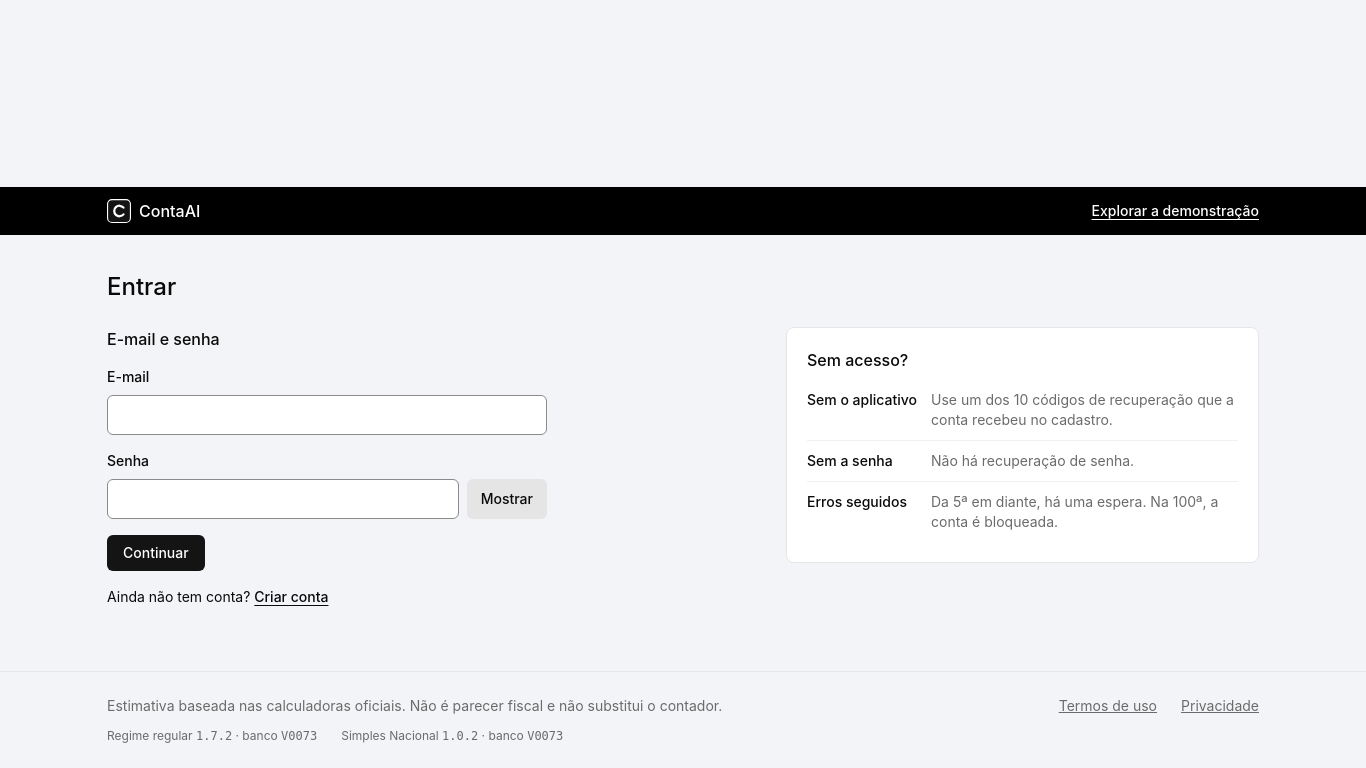
Test: Entrar, passo 1: e-mail e senha › conta bloqueada: a frase da API, sem contagem de 60 min (só o administrador desbloqueia)
(page scrolled)
Type "pessoa@exemplo.test" into the field labelled "E-mail" at (327, 415), box x1=107 y1=395 x2=547 y2=435
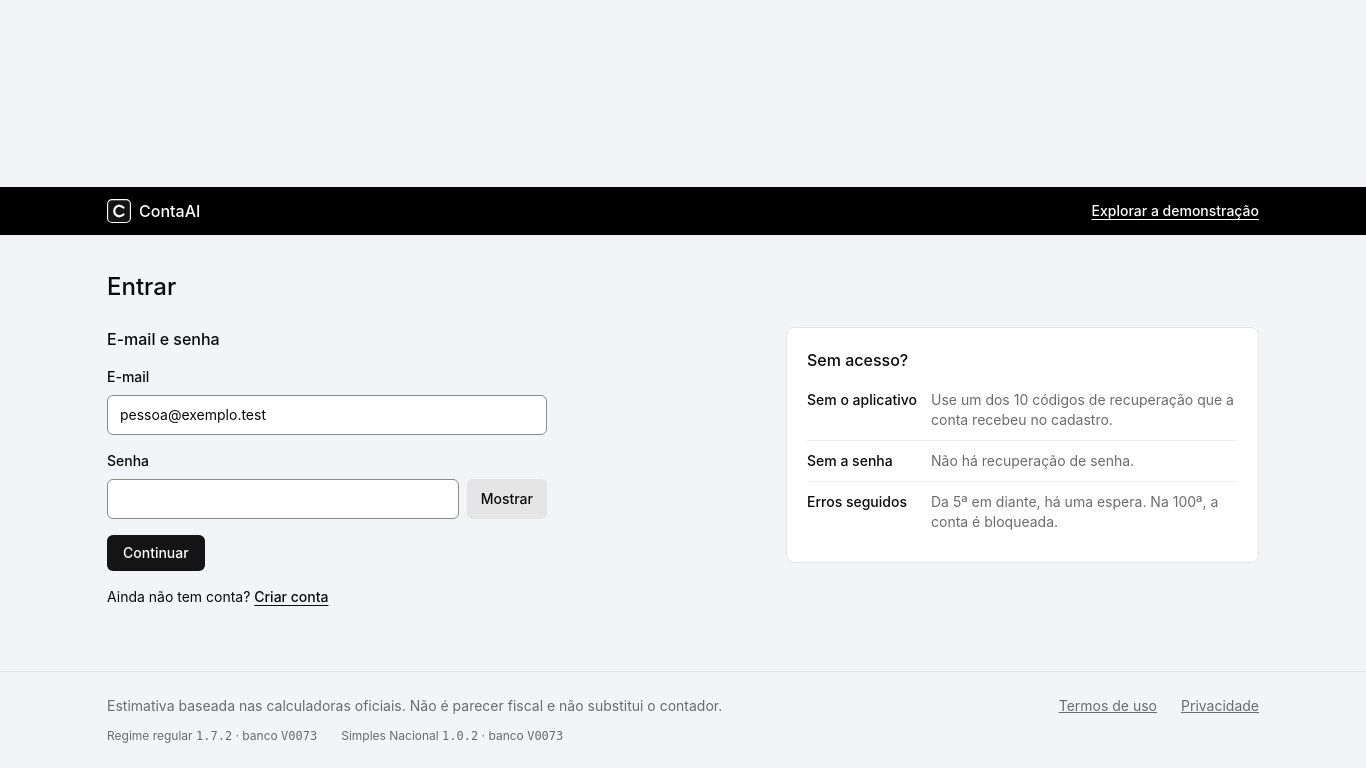
Type "a senha da pessoa" into the password field labelled "Senha" at (283, 499), box x1=107 y1=479 x2=459 y2=519
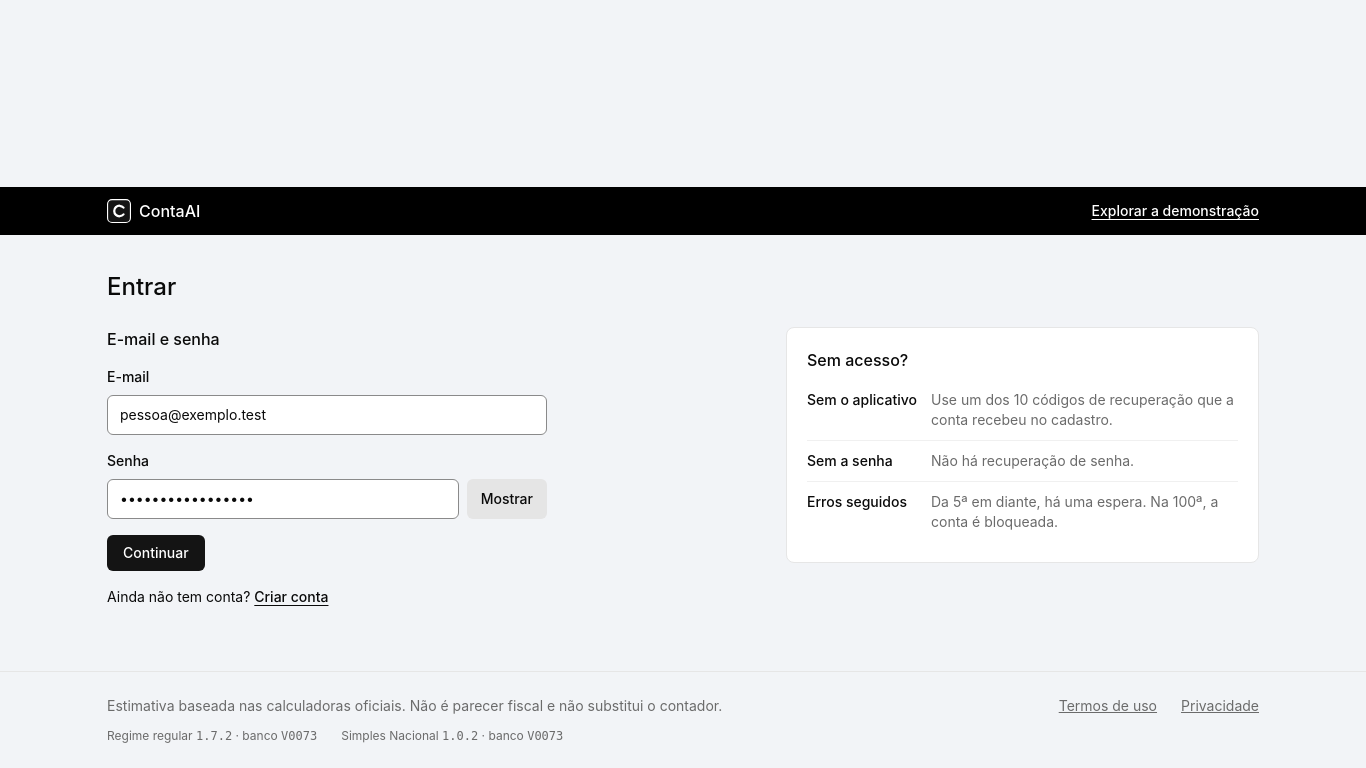
Click the button "Continuar" at (156, 553), box x1=107 y1=535 x2=205 y2=571
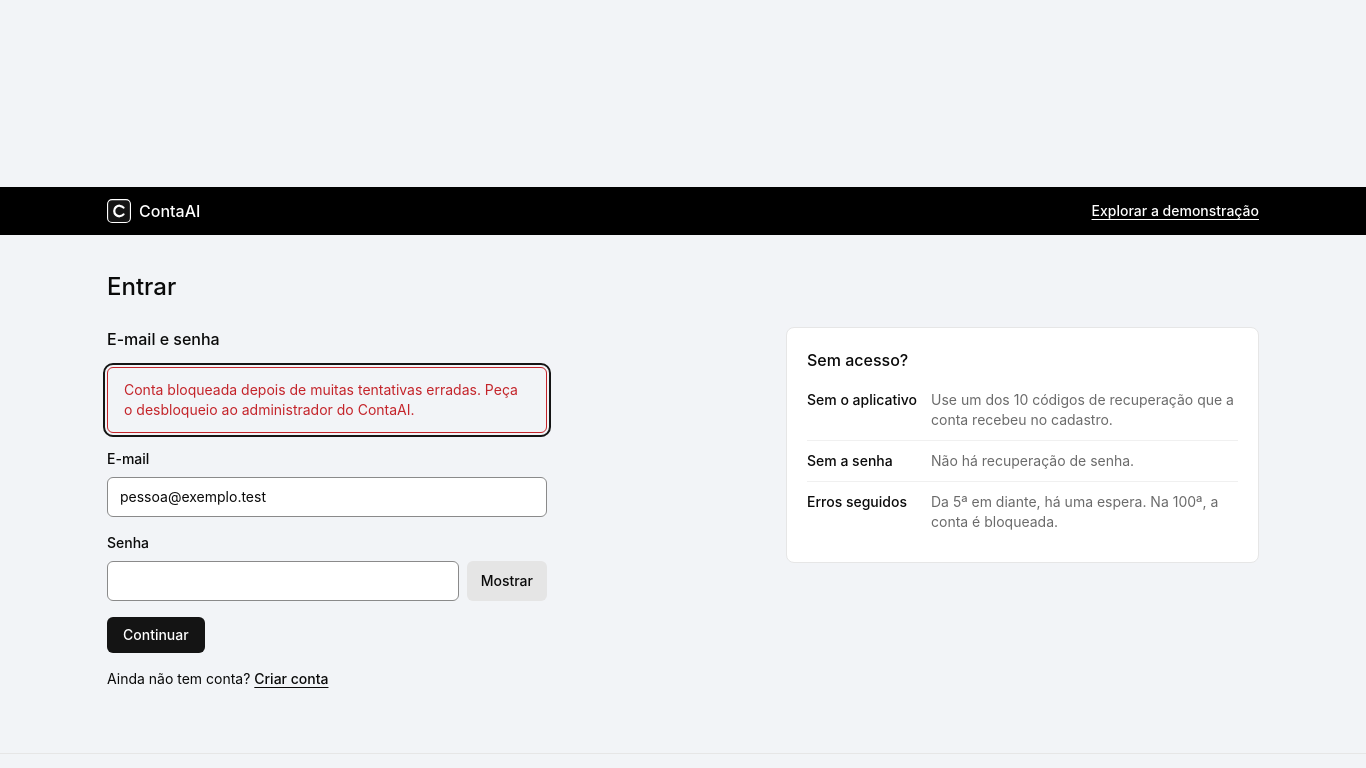
Check: the button "Continuar" is enabled, box x1=107 y1=617 x2=205 y2=653
Check: the message shows "Conta bloqueada depois de muitas tentativas erradas. Peça o desbloqueio ao administrador do ContaAI.", box x1=124 y1=381 x2=518 y2=418
